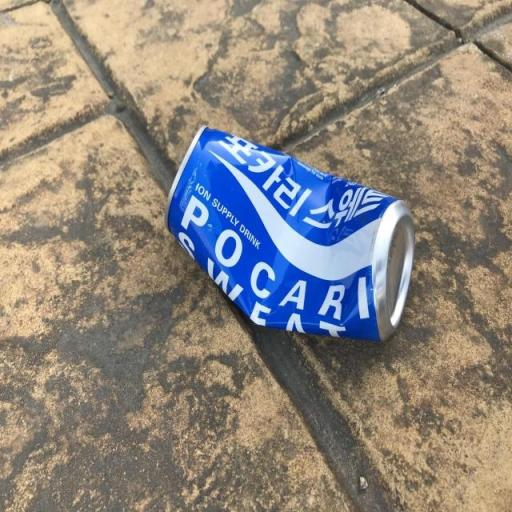metal: (148, 114, 434, 381)
